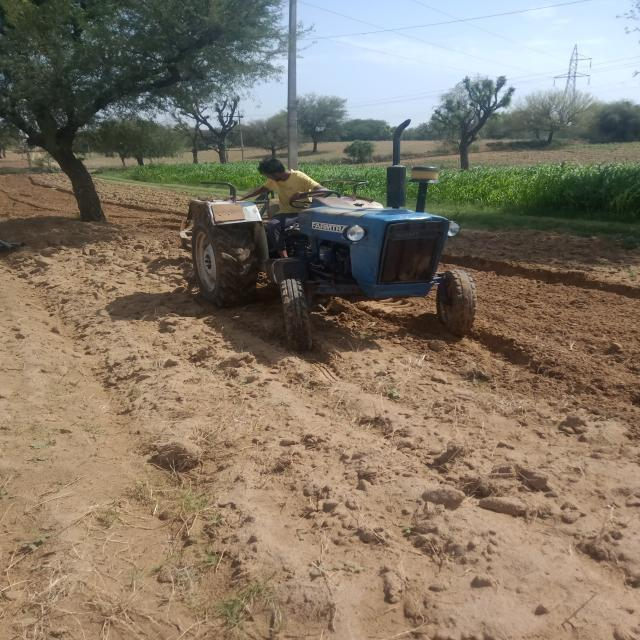tractor_front: (174, 111, 483, 359)
